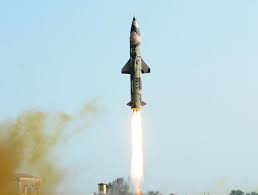ten_lua: (122, 12, 151, 113)
